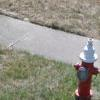Hydrant: (65, 31, 100, 100)
